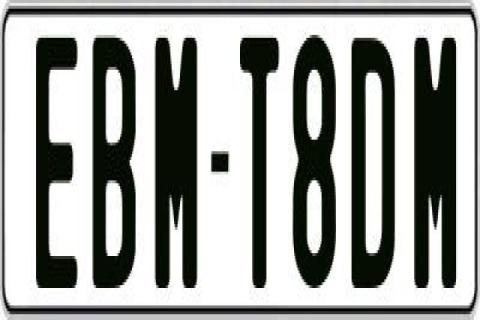0: (291, 32, 335, 285)
B: (93, 38, 137, 297)
D: (350, 32, 398, 296)
E: (34, 32, 74, 296)
M: (154, 35, 202, 299), (414, 38, 462, 302)
T: (236, 29, 278, 288)
